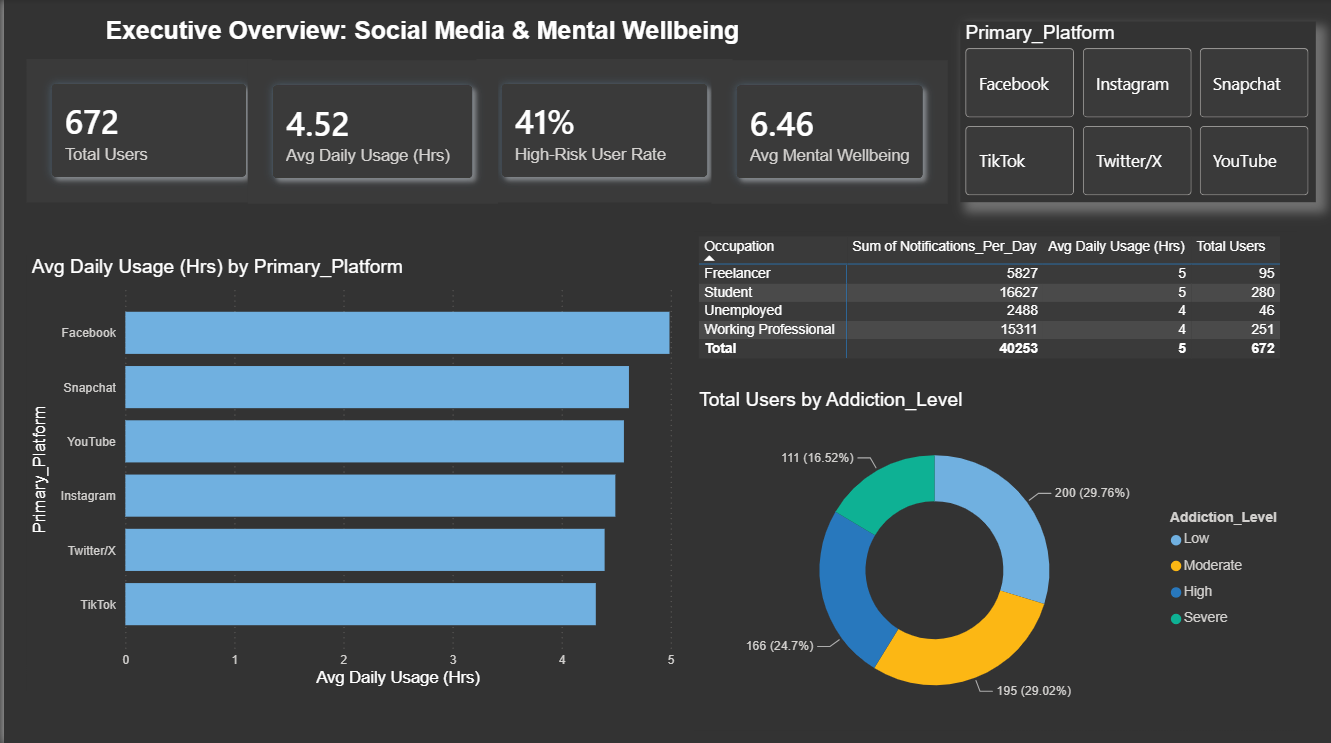

Layout of this report page (visuals, bound fields, positions):
{"tool":"powerbi","page":{"name":"Page 1","canvas":[1280,720],"ordinal":0},"visuals":[{"type":"advancedSlicerVisual","fields":{"Values":["social_media_addiction_mental_wellbeing.Primary_Platform"]},"box":[923,21.3,343.1,174.6],"z":0},{"type":"cardVisual","fields":{"Data":["social_media_addiction_mental_wellbeing.Total Users"]},"box":[21.7,57.9,236.5,138.7],"z":1000},{"type":"cardVisual","fields":{"Data":["social_media_addiction_mental_wellbeing.High-Risk User Rate"]},"box":[456,57.9,247.3,138.7],"z":2000},{"type":"cardVisual","fields":{"Data":["social_media_addiction_mental_wellbeing.Avg Daily Usage (Hrs)"]},"box":[235.3,59.1,241.3,138.7],"z":3000},{"type":"cardVisual","fields":{"Data":["social_media_addiction_mental_wellbeing.Avg Mental Wellbeing"]},"box":[682.8,59.1,228,138.7],"z":4000},{"type":"donutChart","fields":{"Category":["social_media_addiction_mental_wellbeing.Addiction_Level"],"Y":["social_media_addiction_mental_wellbeing.Total Users"]},"box":[666,376.4,581.5,329.4],"z":5000},{"type":"clusteredBarChart","fields":{"Category":["social_media_addiction_mental_wellbeing.Primary_Platform"],"Y":["social_media_addiction_mental_wellbeing.Avg Daily Usage (Hrs)"]},"box":[21.7,247.3,631,421],"z":6000},{"type":"pivotTable","fields":{"Rows":["social_media_addiction_mental_wellbeing.Occupation"],"Values":["Sum(social_media_addiction_mental_wellbeing.Notifications_Per_Day)","social_media_addiction_mental_wellbeing.Avg Daily Usage (Hrs)","social_media_addiction_mental_wellbeing.Total Users"]},"box":[666.4,224.7,581.4,151.8],"z":7000},{"type":"textbox","box":[92.9,12.1,624.9,41],"z":7001}]}

Visuals, with their boxes in screenshot pixels (x1, y1, x2, y2), scaled from the page's 1280x720 canvas onto the 1331x743 screenshot:
advancedSlicerVisual - social_media_addiction_mental_wellbeing.Primary_Platform: bbox(960, 22, 1317, 202)
cardVisual - social_media_addiction_mental_wellbeing.Total Users: bbox(23, 60, 268, 203)
cardVisual - social_media_addiction_mental_wellbeing.High-Risk User Rate: bbox(474, 60, 731, 203)
cardVisual - social_media_addiction_mental_wellbeing.Avg Daily Usage (Hrs): bbox(245, 61, 496, 204)
cardVisual - social_media_addiction_mental_wellbeing.Avg Mental Wellbeing: bbox(710, 61, 947, 204)
donutChart - social_media_addiction_mental_wellbeing.Addiction_Level x social_media_addiction_mental_wellbeing.Total Users: bbox(693, 388, 1297, 728)
clusteredBarChart - social_media_addiction_mental_wellbeing.Primary_Platform x social_media_addiction_mental_wellbeing.Avg Daily Usage (Hrs): bbox(23, 255, 679, 690)
pivotTable - social_media_addiction_mental_wellbeing.Occupation x Sum(social_media_addiction_mental_wellbeing.Notifications_Per_Day): bbox(693, 232, 1298, 389)
textbox: bbox(97, 12, 746, 55)
